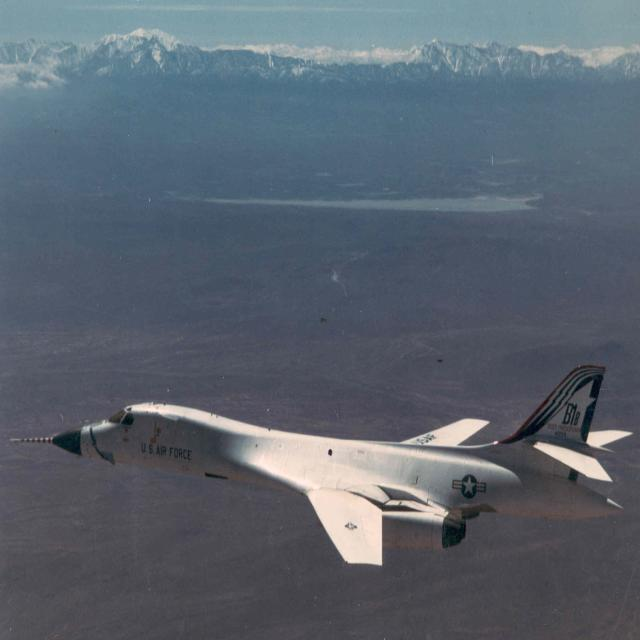MIL_Plane: (9, 358, 633, 560)
